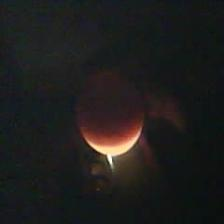fertile: (70, 64, 149, 159)
